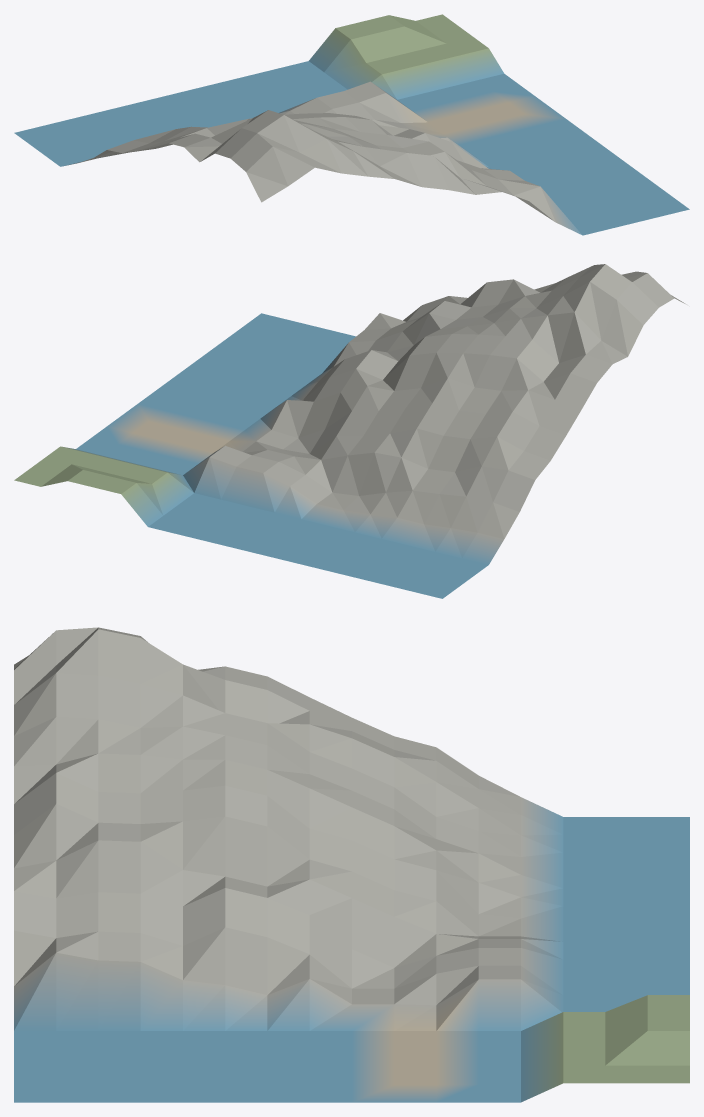
The picture shows the model from 3 angles, top to bottom: view 1: azimuth 30°, elevation 25°; view 2: azimuth 150°, elevation 25°; view 3: azimuth 270°, elevation 25°; orthographic projection. The views are drawn at different scales.
Size of the model in its own units: 32 by 11.66 by 32.
